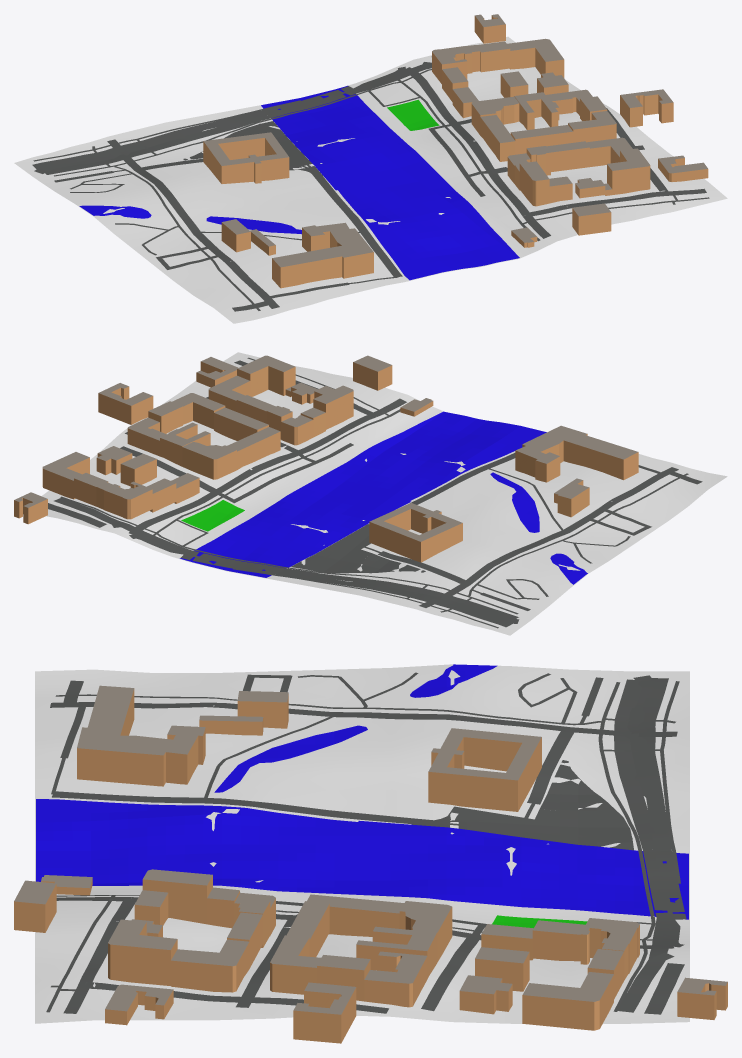
Rendered from castle.fbx.
3 views of the same model, one above another, from view 1: azimuth 30°, elevation 25°; view 2: azimuth 150°, elevation 25°; view 3: azimuth 270°, elevation 25° (orthographic). The views are drawn at different scales.
Visible parts, largest first — view 1: Terrain, map_4.osm_buildings, map_4.osm_water, map_4.osm_roads_residential, map_4.osm_roads_trunk, map_4.osm_paths_footway, map_4.osm_roads_tertiary, map_4.osm_roads_service, map_4.osm_areas_pedestrian, map_4.osm_vegetation; view 2: Terrain, map_4.osm_buildings, map_4.osm_water, map_4.osm_roads_trunk, map_4.osm_roads_residential, map_4.osm_paths_footway, map_4.osm_areas_pedestrian, map_4.osm_roads_tertiary, map_4.osm_roads_service, map_4.osm_vegetation; view 3: Terrain, map_4.osm_buildings, map_4.osm_water, map_4.osm_roads_trunk, map_4.osm_roads_residential, map_4.osm_paths_footway, map_4.osm_areas_pedestrian, map_4.osm_roads_tertiary, map_4.osm_roads_service.
Part boxes in pixels (<box>): Terrain: <box>14,36,727,323</box>; map_4.osm_buildings: <box>203,14,708,288</box>; map_4.osm_water: <box>79,85,519,280</box>; map_4.osm_roads_residential: <box>107,62,706,311</box>; map_4.osm_roads_trunk: <box>32,56,431,174</box>; map_4.osm_paths_footway: <box>33,69,709,310</box>; map_4.osm_roads_tertiary: <box>119,148,279,308</box>; map_4.osm_roads_service: <box>54,124,491,298</box>; map_4.osm_areas_pedestrian: <box>183,121,322,175</box>; map_4.osm_vegetation: <box>387,99,439,130</box>; Terrain: <box>41,352,727,635</box>; map_4.osm_buildings: <box>14,355,638,562</box>; map_4.osm_water: <box>180,411,587,584</box>; map_4.osm_roads_trunk: <box>48,498,519,627</box>; map_4.osm_roads_residential: <box>112,360,702,607</box>; map_4.osm_paths_footway: <box>60,357,688,628</box>; map_4.osm_areas_pedestrian: <box>291,524,425,573</box>; map_4.osm_roads_tertiary: <box>431,467,678,601</box>; map_4.osm_roads_service: <box>218,443,662,610</box>; map_4.osm_vegetation: <box>181,500,244,531</box>; Terrain: <box>35,664,689,1023</box>; map_4.osm_buildings: <box>14,685,727,1043</box>; map_4.osm_water: <box>36,664,688,919</box>; map_4.osm_roads_trunk: <box>614,675,686,1014</box>; map_4.osm_roads_residential: <box>52,680,684,1013</box>; map_4.osm_paths_footway: <box>46,672,680,1012</box>; map_4.osm_areas_pedestrian: <box>411,760,633,850</box>; map_4.osm_roads_tertiary: <box>50,702,646,736</box>; map_4.osm_roads_service: <box>60,674,603,936</box>.
Bounding box in the file's own units: 47590 × 3163 × 37080.
